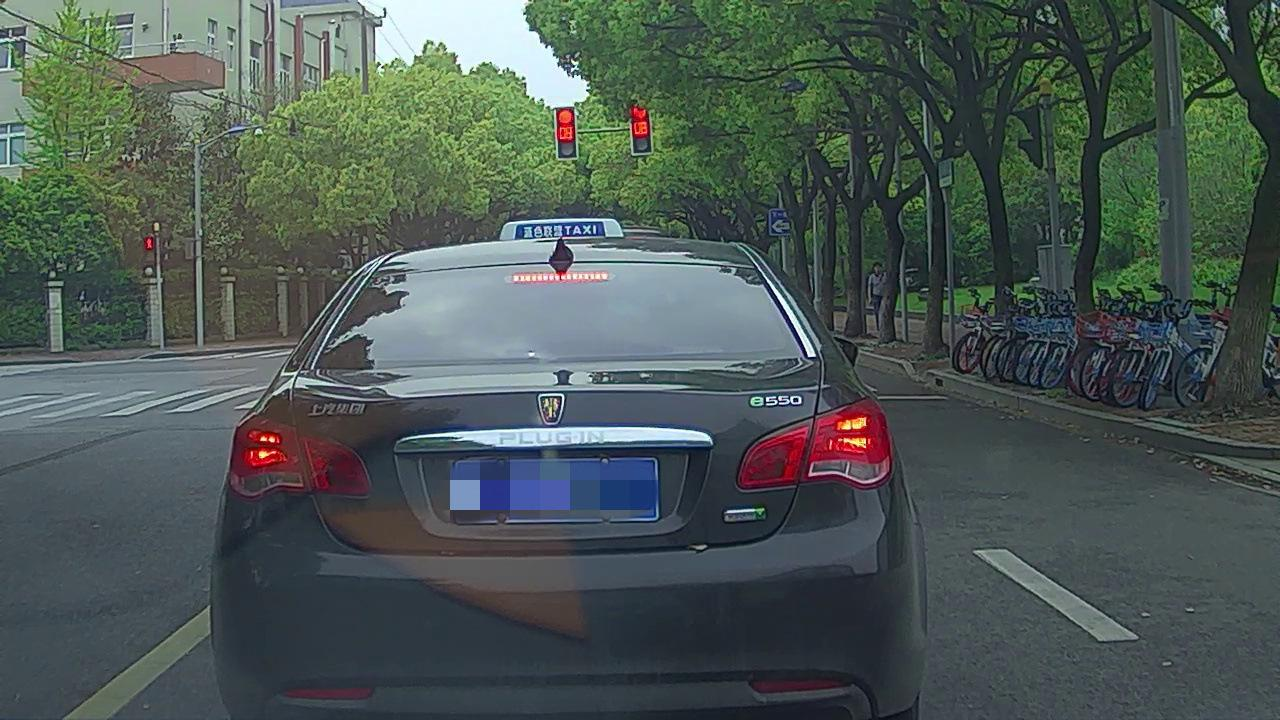traffic_light: (554, 110, 577, 158), (633, 107, 650, 156)
